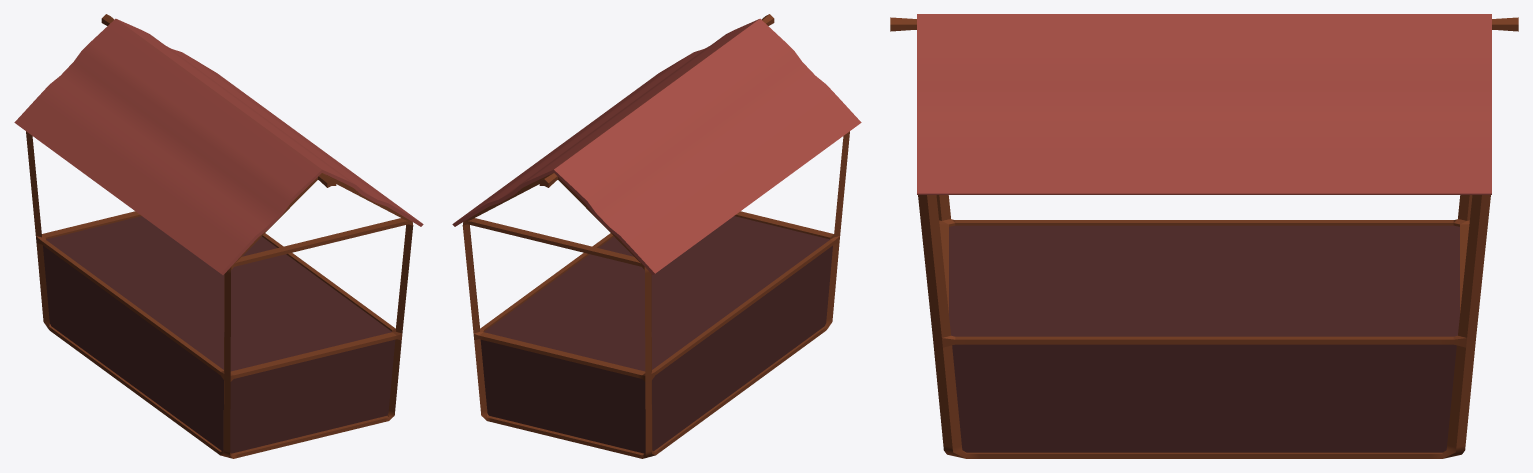
File: Stall4.fbx
3 renders of one model, left to right at view 1: azimuth 30°, elevation 25°; view 2: azimuth 150°, elevation 25°; view 3: azimuth 270°, elevation 25°, orthographic. The views are drawn at different scales.
Visible parts, largest first — view 1: Plane.006; view 2: Plane.006; view 3: Plane.006.
Part boxes in pixels (x1,y1,x2,y2): Plane.006: (14, 14, 423, 458); Plane.006: (452, 14, 861, 458); Plane.006: (890, 14, 1518, 458).
Size of the model in its own units: 253 by 332 by 487.
